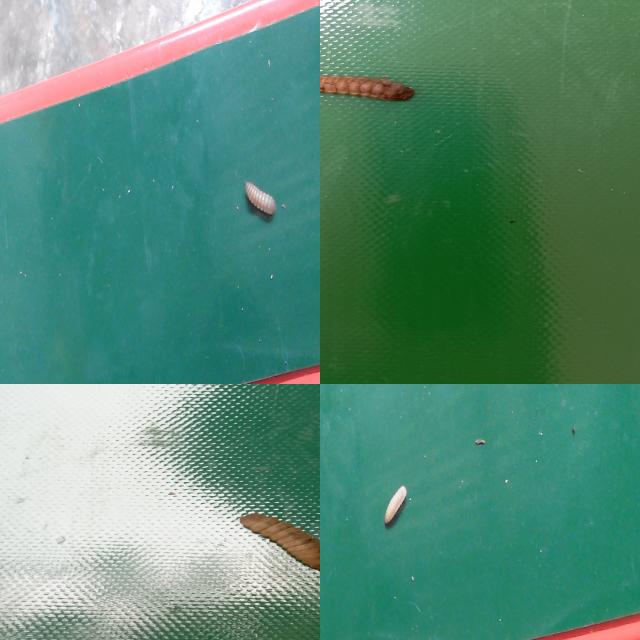Maggot: (240, 513, 320, 573), (320, 75, 416, 103), (242, 181, 277, 222), (383, 485, 409, 531)
